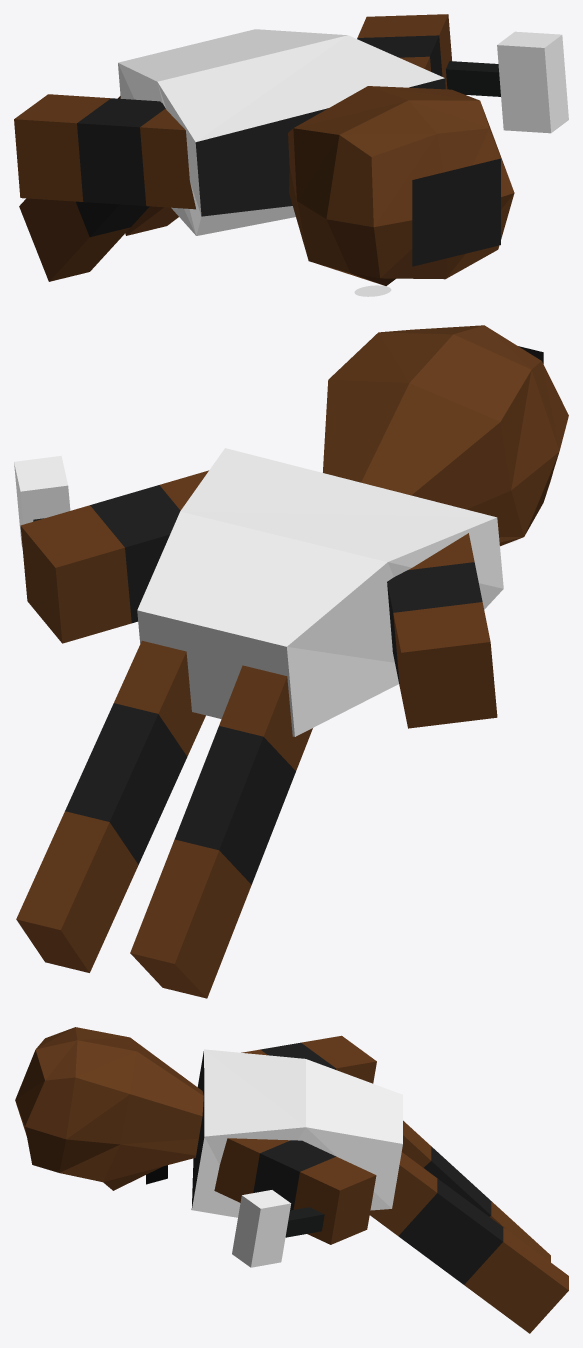
Rendered from slave2d.obj.
The picture shows the model from 3 angles, top to bottom: view 1: azimuth 30°, elevation 25°; view 2: azimuth 150°, elevation 25°; view 3: azimuth 270°, elevation 25°; orthographic projection. The views are drawn at different scales.
Visible parts, largest first — view 1: Cube.001, Cube, Cube.003, Plane.002, Cube.004, Cube.008, Cube.002, Cube.007, Cube.005; view 2: Cube.001, Cube, Cube.005, Cube.004, Cube.002, Cube.003, Cube.008; view 3: Cube, Cube.001, Cube.005, Cube.002, Cube.008, Cube.004, Cube.003, Cube.007.
Part boxes in pixels (left/top/right/bottom): Cube.001: left=118, top=29, right=445, bottom=235; Cube: left=288, top=86, right=514, bottom=285; Cube.003: left=14, top=94, right=195, bottom=209; Plane.002: left=412, top=158, right=500, bottom=266; Cube.004: left=19, top=96, right=149, bottom=281; Cube.008: left=497, top=31, right=568, bottom=133; Cube.002: left=357, top=14, right=451, bottom=89; Cube.007: left=446, top=61, right=500, bottom=96; Cube.005: left=125, top=206, right=178, bottom=235; Cube.001: left=137, top=448, right=503, bottom=736; Cube: left=323, top=325, right=568, bottom=546; Cube.005: left=16, top=640, right=205, bottom=972; Cube.004: left=130, top=665, right=312, bottom=998; Cube.002: left=20, top=470, right=208, bottom=643; Cube.003: left=387, top=533, right=497, bottom=728; Cube.008: left=14, top=455, right=70, bottom=548; Cube: left=15, top=1027, right=203, bottom=1190; Cube.001: left=191, top=1049, right=402, bottom=1217; Cube.005: left=369, top=1152, right=568, bottom=1333; Cube.002: left=214, top=1138, right=376, bottom=1244; Cube.008: left=232, top=1190, right=291, bottom=1267; Cube.004: left=401, top=1120, right=550, bottom=1262; Cube.003: left=241, top=1035, right=376, bottom=1083; Cube.007: left=285, top=1207, right=324, bottom=1237.
Bounding box in the file's own units: 4.16 × 3.06 × 5.53.
